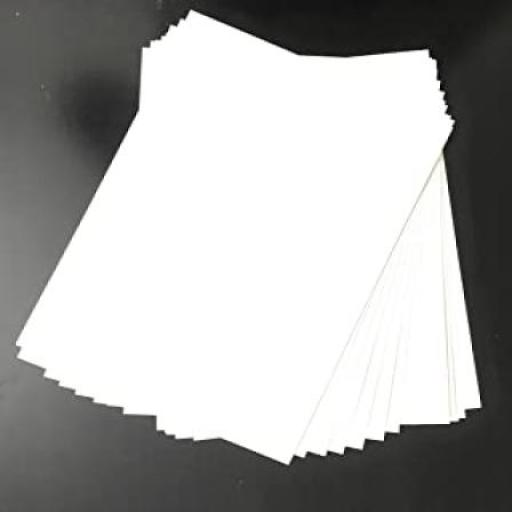paper: (9, 7, 492, 478)
